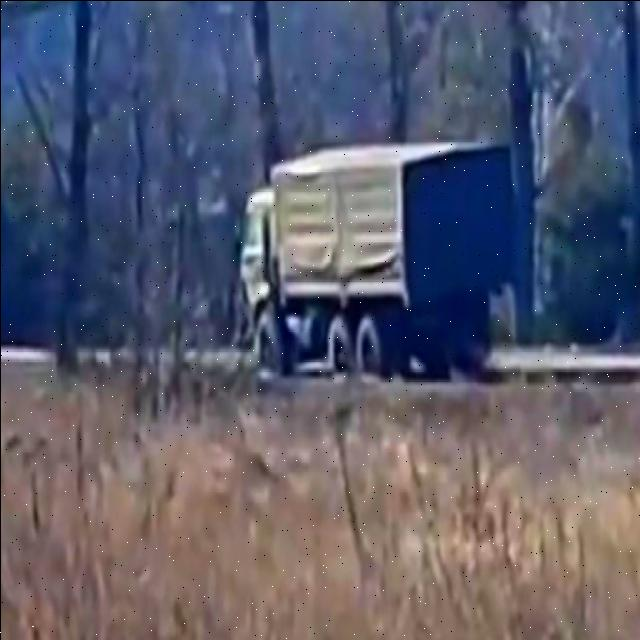TRUCK: (233, 134, 516, 396)
